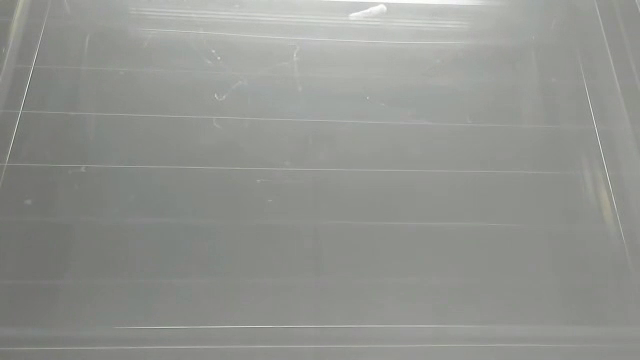alpha: (346, 1, 390, 22)
